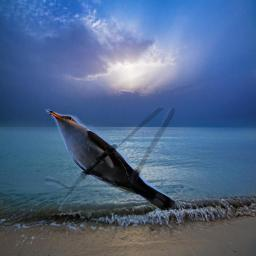Cuckoo: (45, 108, 175, 210)
